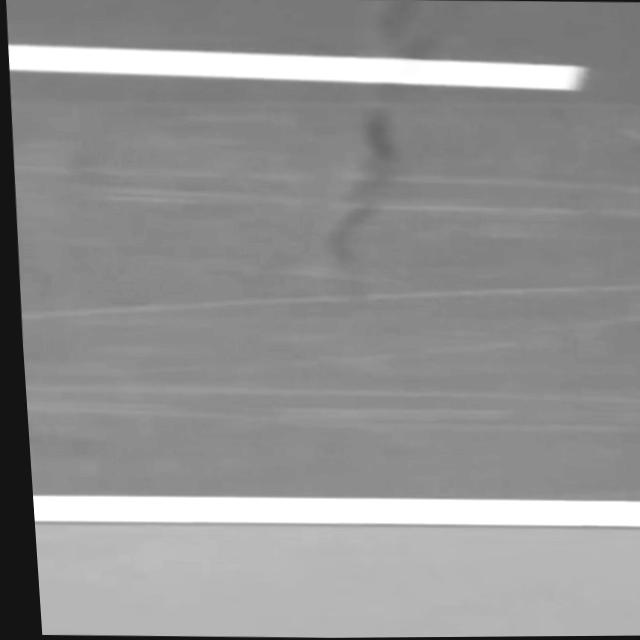center: (8, 42, 587, 89)
right: (33, 493, 640, 525)
